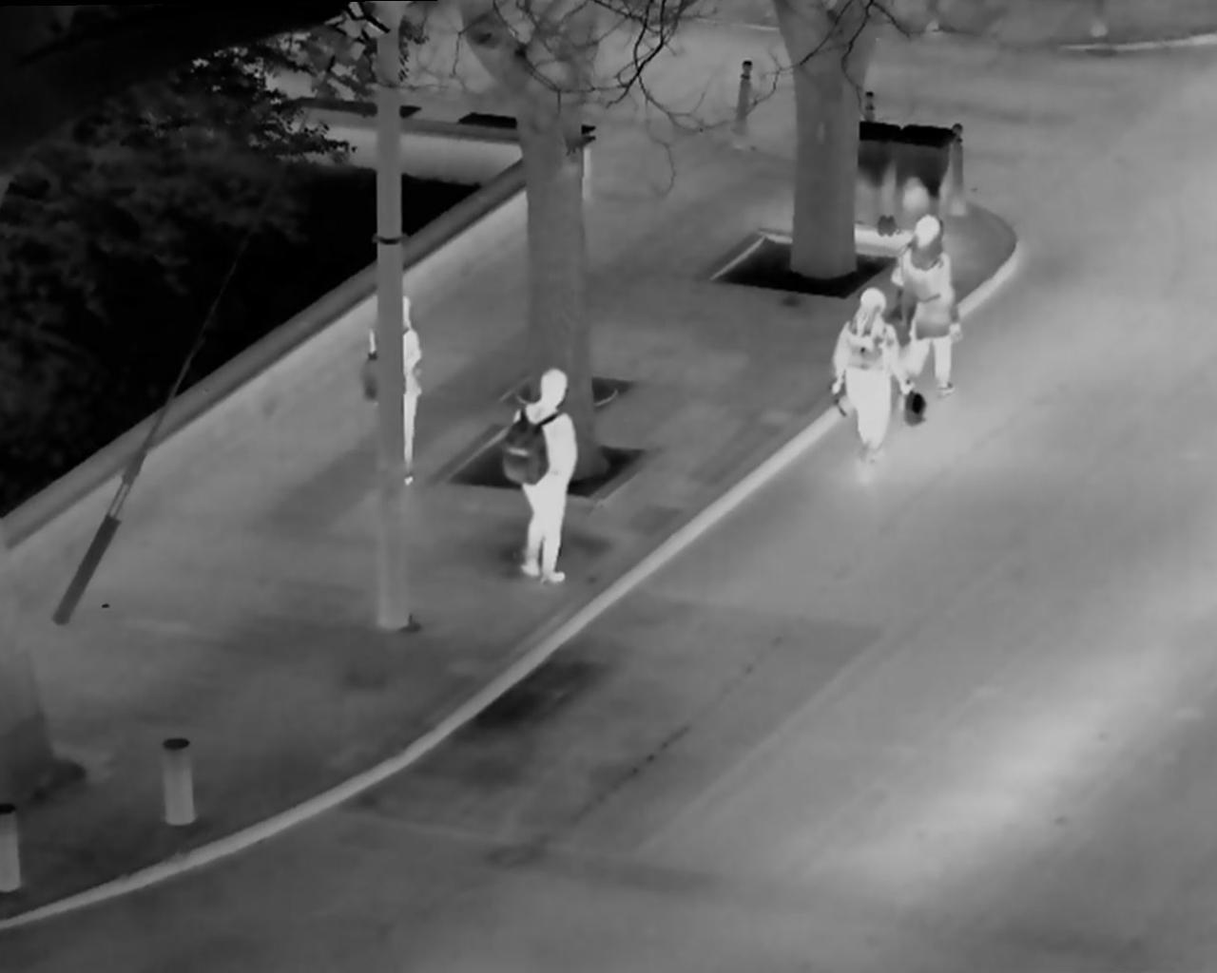person: (500, 360, 589, 586), (823, 278, 919, 483), (366, 274, 435, 498), (890, 213, 967, 396)
